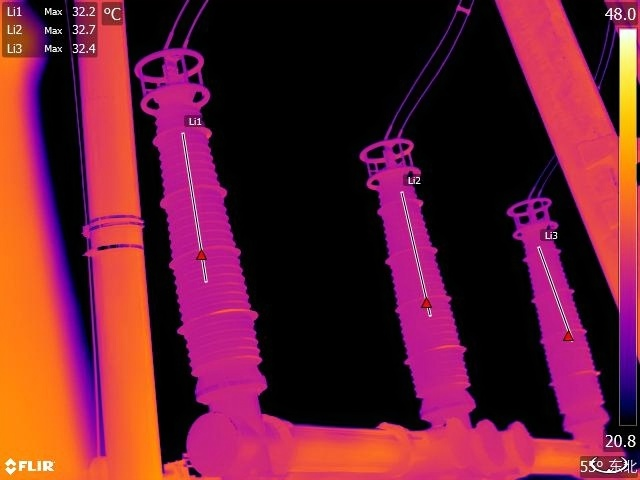tube: (133, 35, 283, 399), (361, 137, 488, 420), (506, 192, 613, 431)
